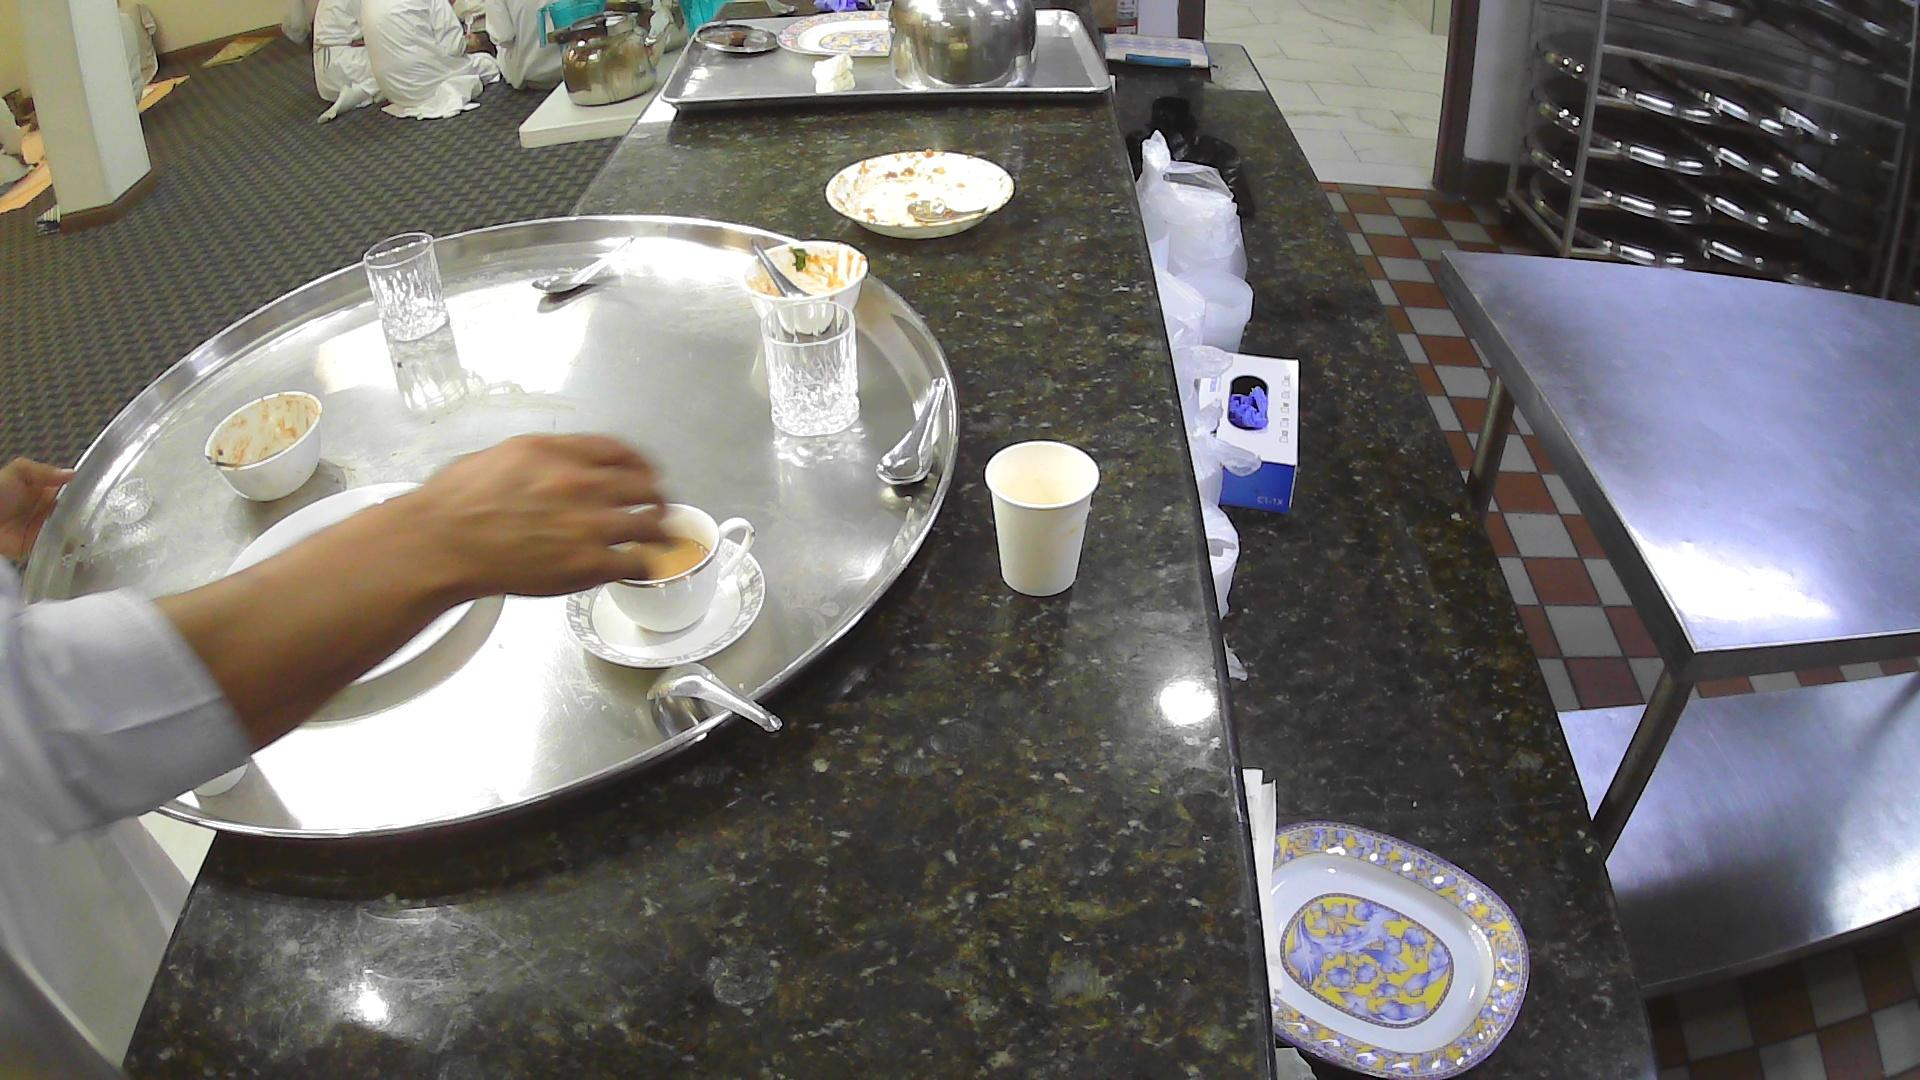thaal: (16, 212, 963, 849)
